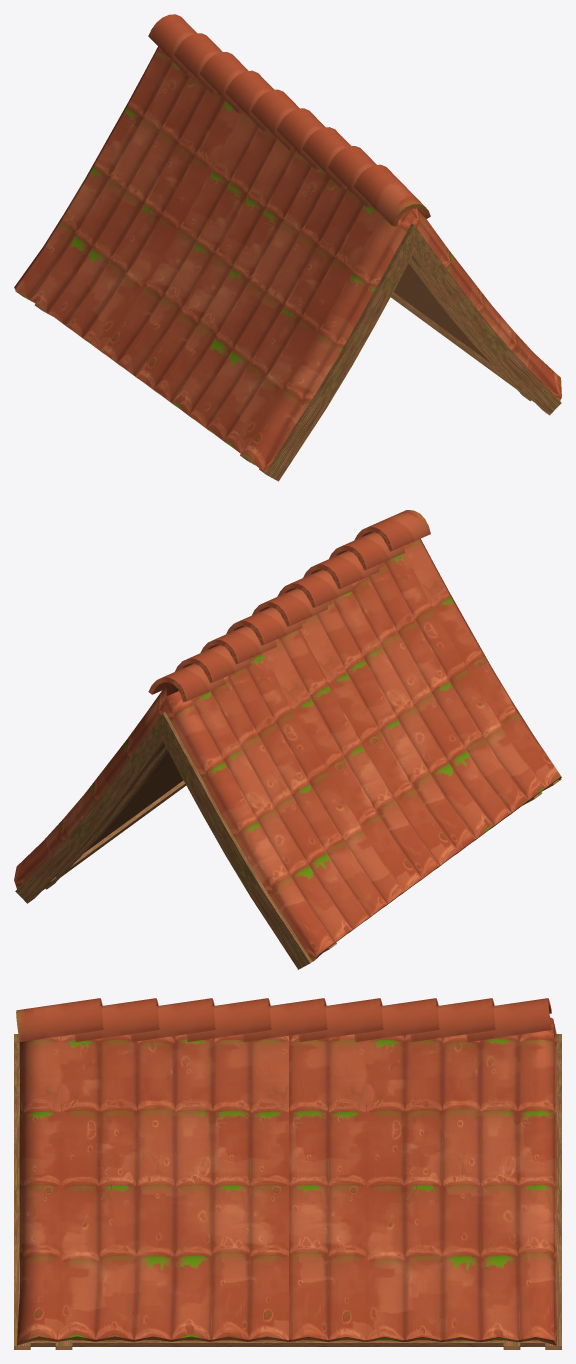
File: Roof_RoundTiles_4x6.glb
3 renders of one model, top to bottom at view 1: azimuth 30°, elevation 25°; view 2: azimuth 150°, elevation 25°; view 3: azimuth 270°, elevation 25°, orthographic. The views are drawn at different scales.
Visible parts, largest first — view 1: Roof_RoundTiles_4x6; view 2: Roof_RoundTiles_4x6; view 3: Roof_RoundTiles_4x6.
Boxes of the visible parts, x1,y1,x2,y2 form: Roof_RoundTiles_4x6: (14, 14, 561, 481); Roof_RoundTiles_4x6: (14, 510, 561, 969); Roof_RoundTiles_4x6: (14, 998, 561, 1349).
Bounding box in the file's own units: 5.51 × 4.23 × 7.57.
2 materials, 2 textured.
